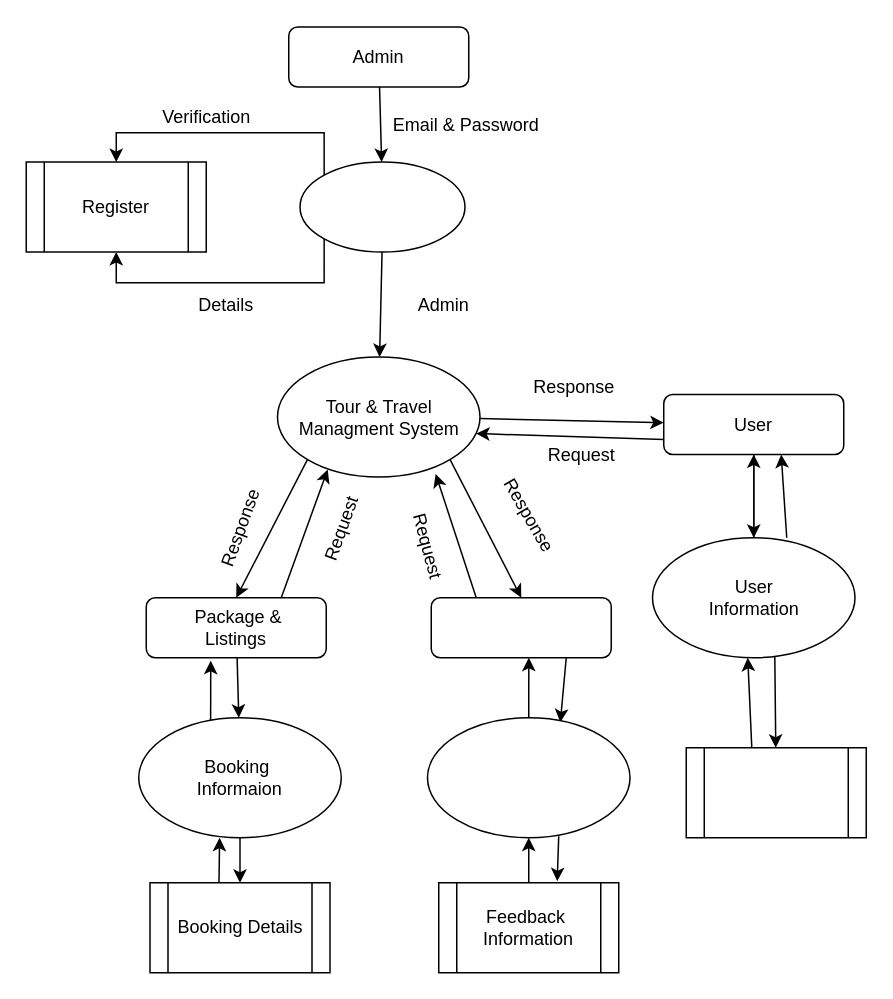
Some shapes in this 893 by 999 pixel diagram are drawn without their labels. The shapes that lost their labels are listed below. From the top down, each one's centre as x and y in pixels, then its label:
the point at 381,206: Login
the point at 520,627: Visitor
the point at 528,777: Feedback
the point at 775,792: User Details
